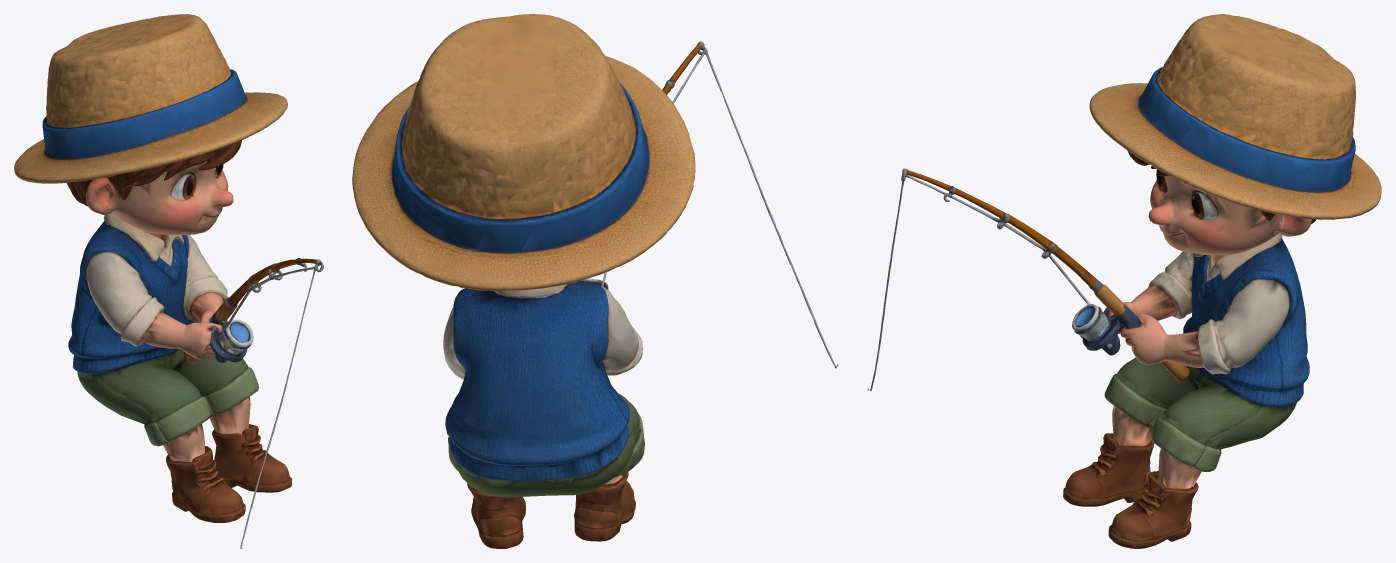
The model's file is boy3d.glb.
3 renders of one model, left to right at view 1: azimuth 30°, elevation 25°; view 2: azimuth 150°, elevation 25°; view 3: azimuth 270°, elevation 25°, orthographic. The views are drawn at different scales.
Visible parts, largest first — view 1: tripo_node_1450a5d4-00e7-4dad-968e-c38d49581a92; view 2: tripo_node_1450a5d4-00e7-4dad-968e-c38d49581a92; view 3: tripo_node_1450a5d4-00e7-4dad-968e-c38d49581a92.
Part boxes in pixels (left/top/right/bottom): tripo_node_1450a5d4-00e7-4dad-968e-c38d49581a92: left=14, top=14, right=323, bottom=548; tripo_node_1450a5d4-00e7-4dad-968e-c38d49581a92: left=352, top=14, right=838, bottom=548; tripo_node_1450a5d4-00e7-4dad-968e-c38d49581a92: left=867, top=14, right=1381, bottom=548.
Size of the model in its own units: 0.5672 by 0.9992 by 0.9722.
Materials: 1 (1 with a texture image).
